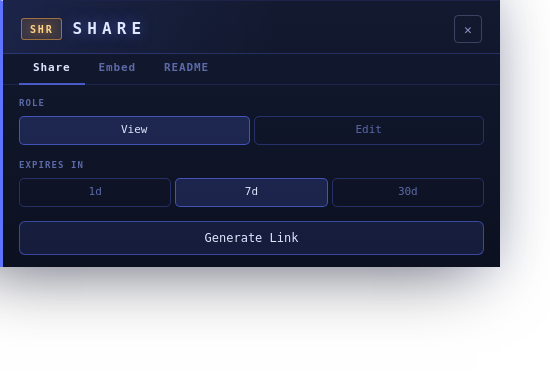
ShareDialog – public toggle › turns the diagram public on success
This screenshot has width=550, height=379.
Step 1. Click the button with class "tab-btn" showing "README" → (186, 69), box [150,54,223,84]
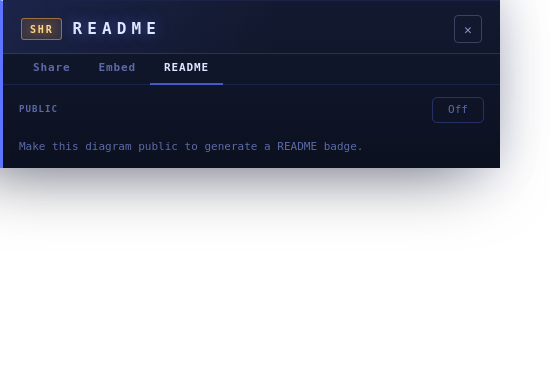
Step 2. Click the button "Off" → (458, 110), box [432,96,484,123]
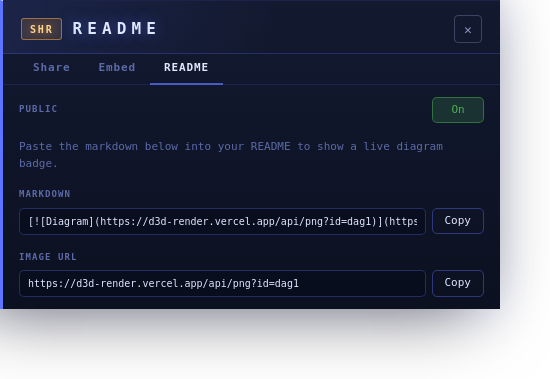
Check: the button "On" is shown, box [432,96,484,123]
